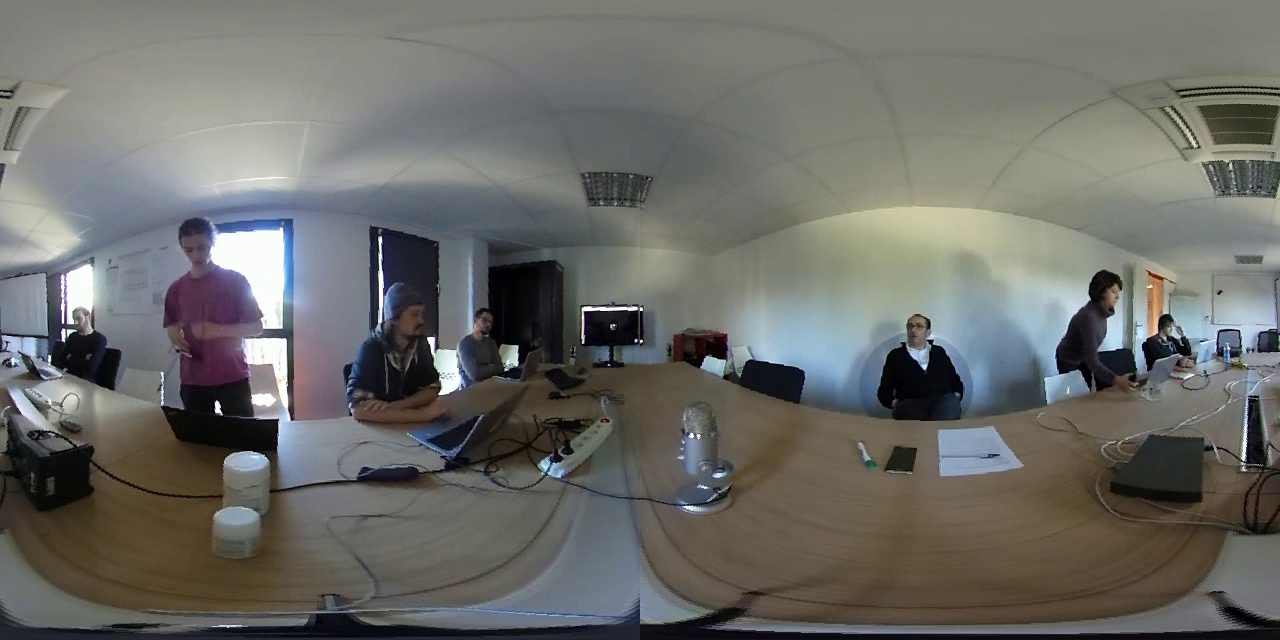person: (147, 209, 289, 389), (340, 270, 444, 415), (874, 297, 967, 422), (1053, 261, 1135, 388), (41, 294, 116, 379), (452, 304, 519, 391), (1143, 301, 1191, 365)
